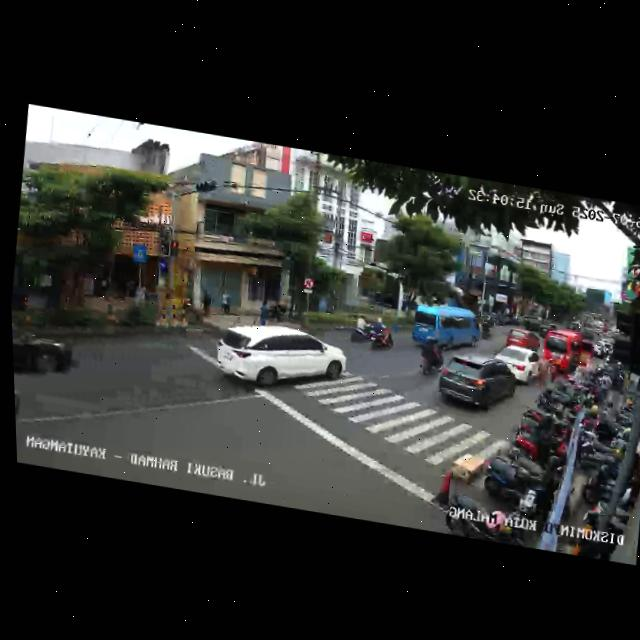bus: (406, 300, 483, 357)
car: (211, 313, 351, 407), (432, 350, 520, 418), (12, 321, 76, 389), (542, 326, 597, 380), (493, 343, 546, 384), (503, 325, 542, 355)
motorcycle: (415, 333, 443, 378), (364, 316, 394, 352), (349, 312, 375, 346), (479, 310, 496, 337)
